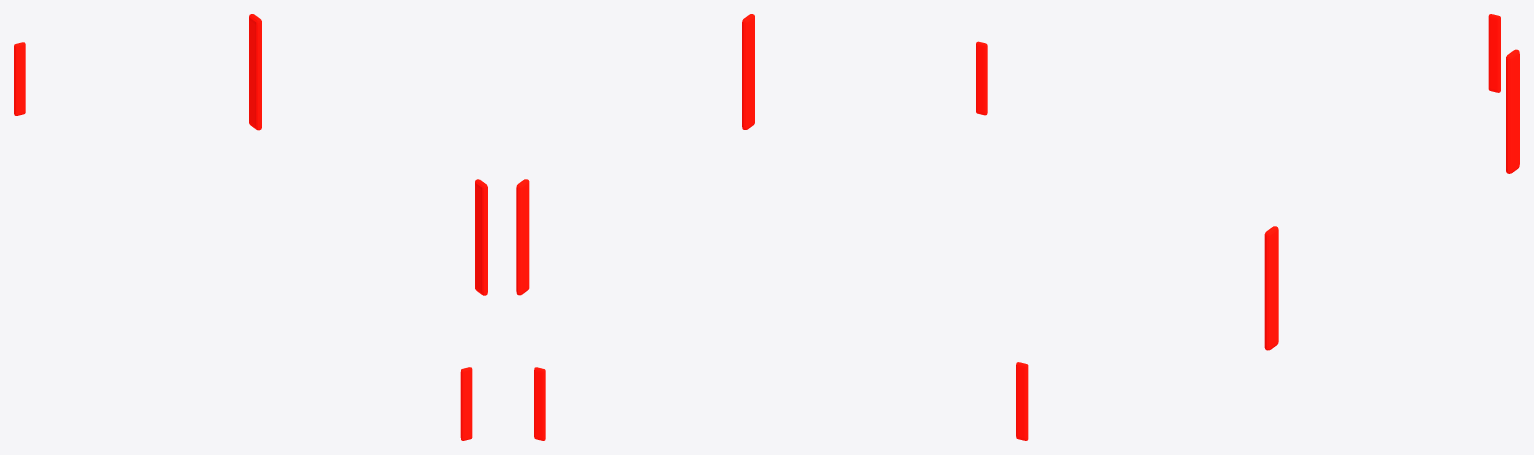
Rendered from progressBarsRed.glb.
3 views of the same model, side by side, from view 1: azimuth 30°, elevation 25°; view 2: azimuth 150°, elevation 25°; view 3: azimuth 330°, elevation 25° (orthographic). The views are drawn at different scales.
Parts seen in each view (by area): view 1: Plane.108, Plane.087, Plane.101, Plane.094; view 2: Plane.087, Plane.108, Plane.094, Plane.101; view 3: Plane.108, Plane.087, Plane.101, Plane.094.
Boxes of the visible parts, x1=… form: Plane.108: x1=475, y1=179, x2=487, y2=295; Plane.087: x1=249, y1=14, x2=261, y2=130; Plane.101: x1=460, y1=367, x2=472, y2=440; Plane.094: x1=14, y1=42, x2=25, y2=115; Plane.087: x1=516, y1=179, x2=529, y2=295; Plane.108: x1=742, y1=14, x2=754, y2=129; Plane.094: x1=534, y1=367, x2=545, y2=440; Plane.101: x1=976, y1=41, x2=987, y2=115; Plane.108: x1=1264, y1=226, x2=1278, y2=350; Plane.087: x1=1506, y1=49, x2=1519, y2=173; Plane.101: x1=1016, y1=362, x2=1028, y2=440; Plane.094: x1=1488, y1=14, x2=1500, y2=92.
Size of the model in its own units: 3.81 by 3.99 by 21.89.
